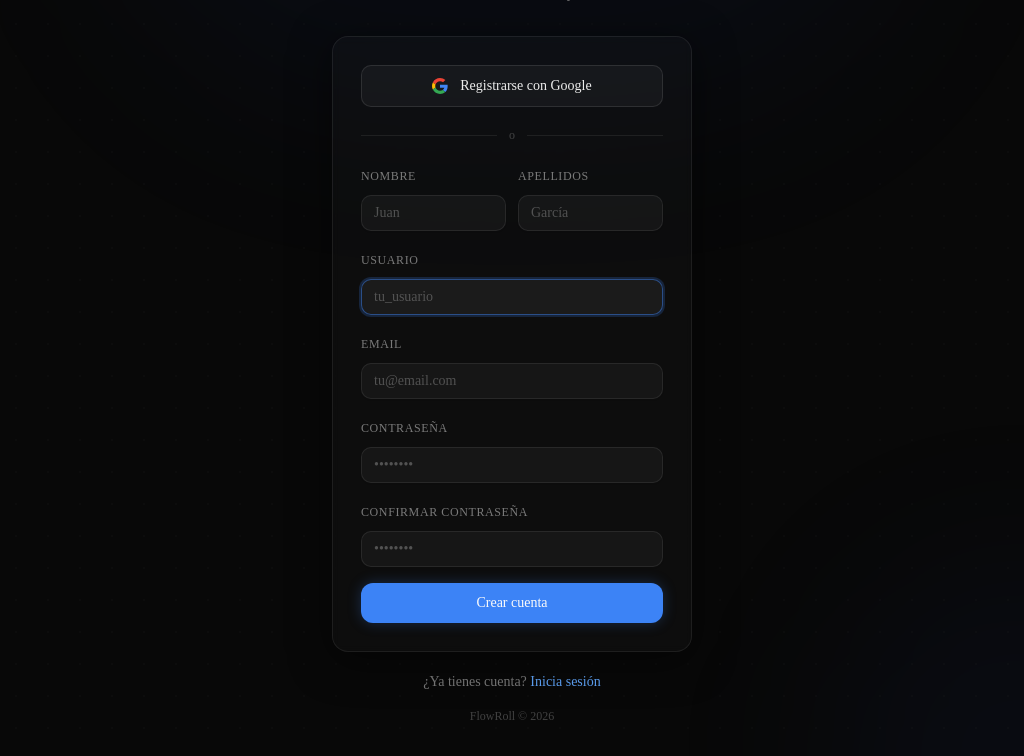
Scenario: RegisterPage › shows validation error when username is empty
This screenshot has width=1024, height=756.
(page scrolled)
Click the button "Crear cuenta": (512, 603) [361,583,663,623]
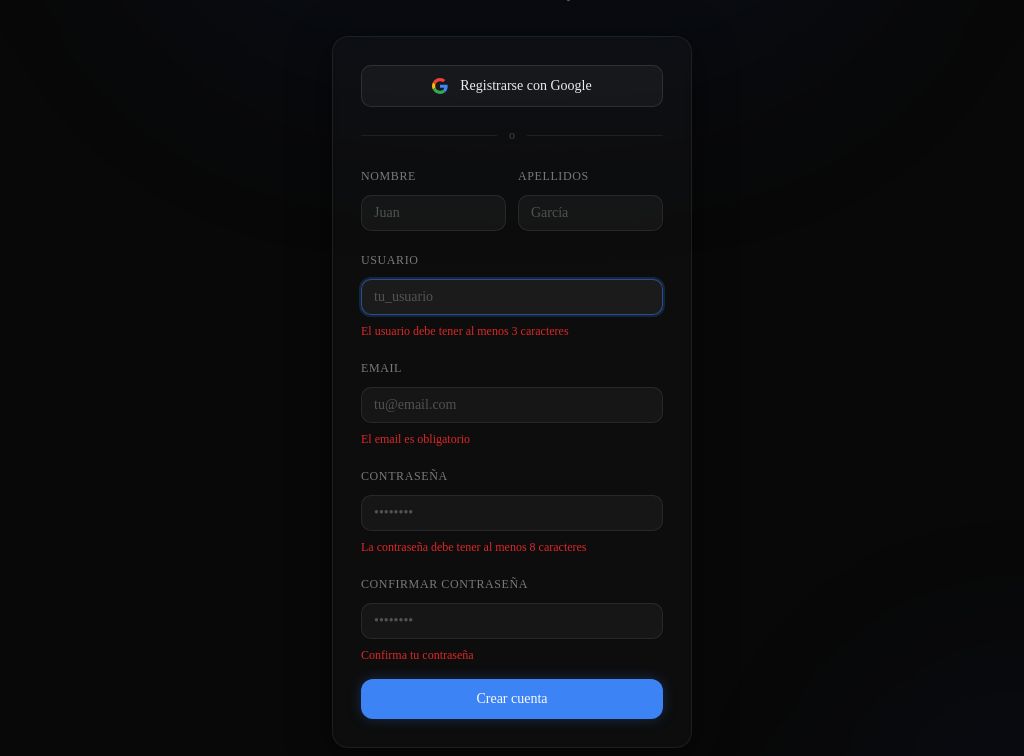
expect the text "El usuario debe tener al menos 3 caracteres" is shown: met, box [361,324,569,338]
